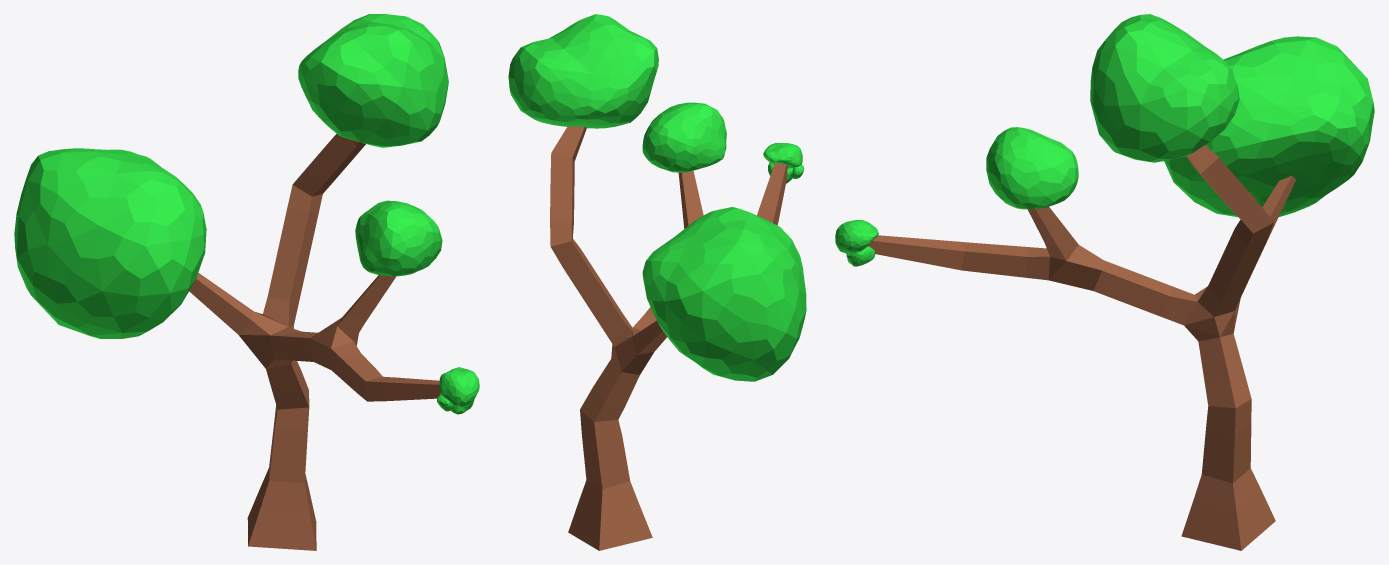
Rendered from Tree_2.fbx.
3 views of the same model, side by side, from view 1: azimuth 30°, elevation 25°; view 2: azimuth 150°, elevation 25°; view 3: azimuth 270°, elevation 25° (orthographic). The views are drawn at different scales.
Parts seen in each view (by area): view 1: Icosphere.006; view 2: Icosphere.006; view 3: Icosphere.006.
Boxes of the visible parts, x1,y1,x2,y2 form: Icosphere.006: [14, 14, 479, 550]; Icosphere.006: [508, 14, 806, 550]; Icosphere.006: [835, 14, 1374, 550].
Bounding box in the file's own units: 314 × 437 × 402.
